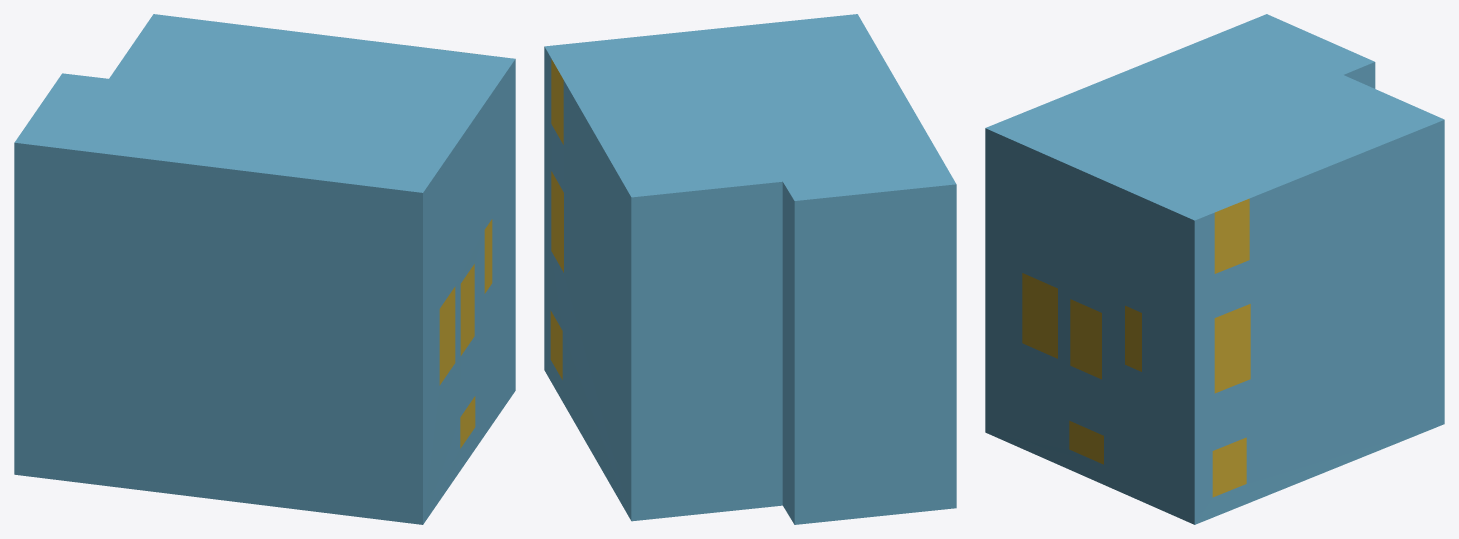
Rendered from bldg_f28aef0a-27ad-4fb7-be86-f09e0b55a721.obj.
3 views of the same model, side by side, from view 1: azimuth 30°, elevation 25°; view 2: azimuth 150°, elevation 25°; view 3: azimuth 270°, elevation 25° (orthographic). The views are drawn at different scales.
Size of the model in its own units: 11.79 by 8.1 by 11.09.
